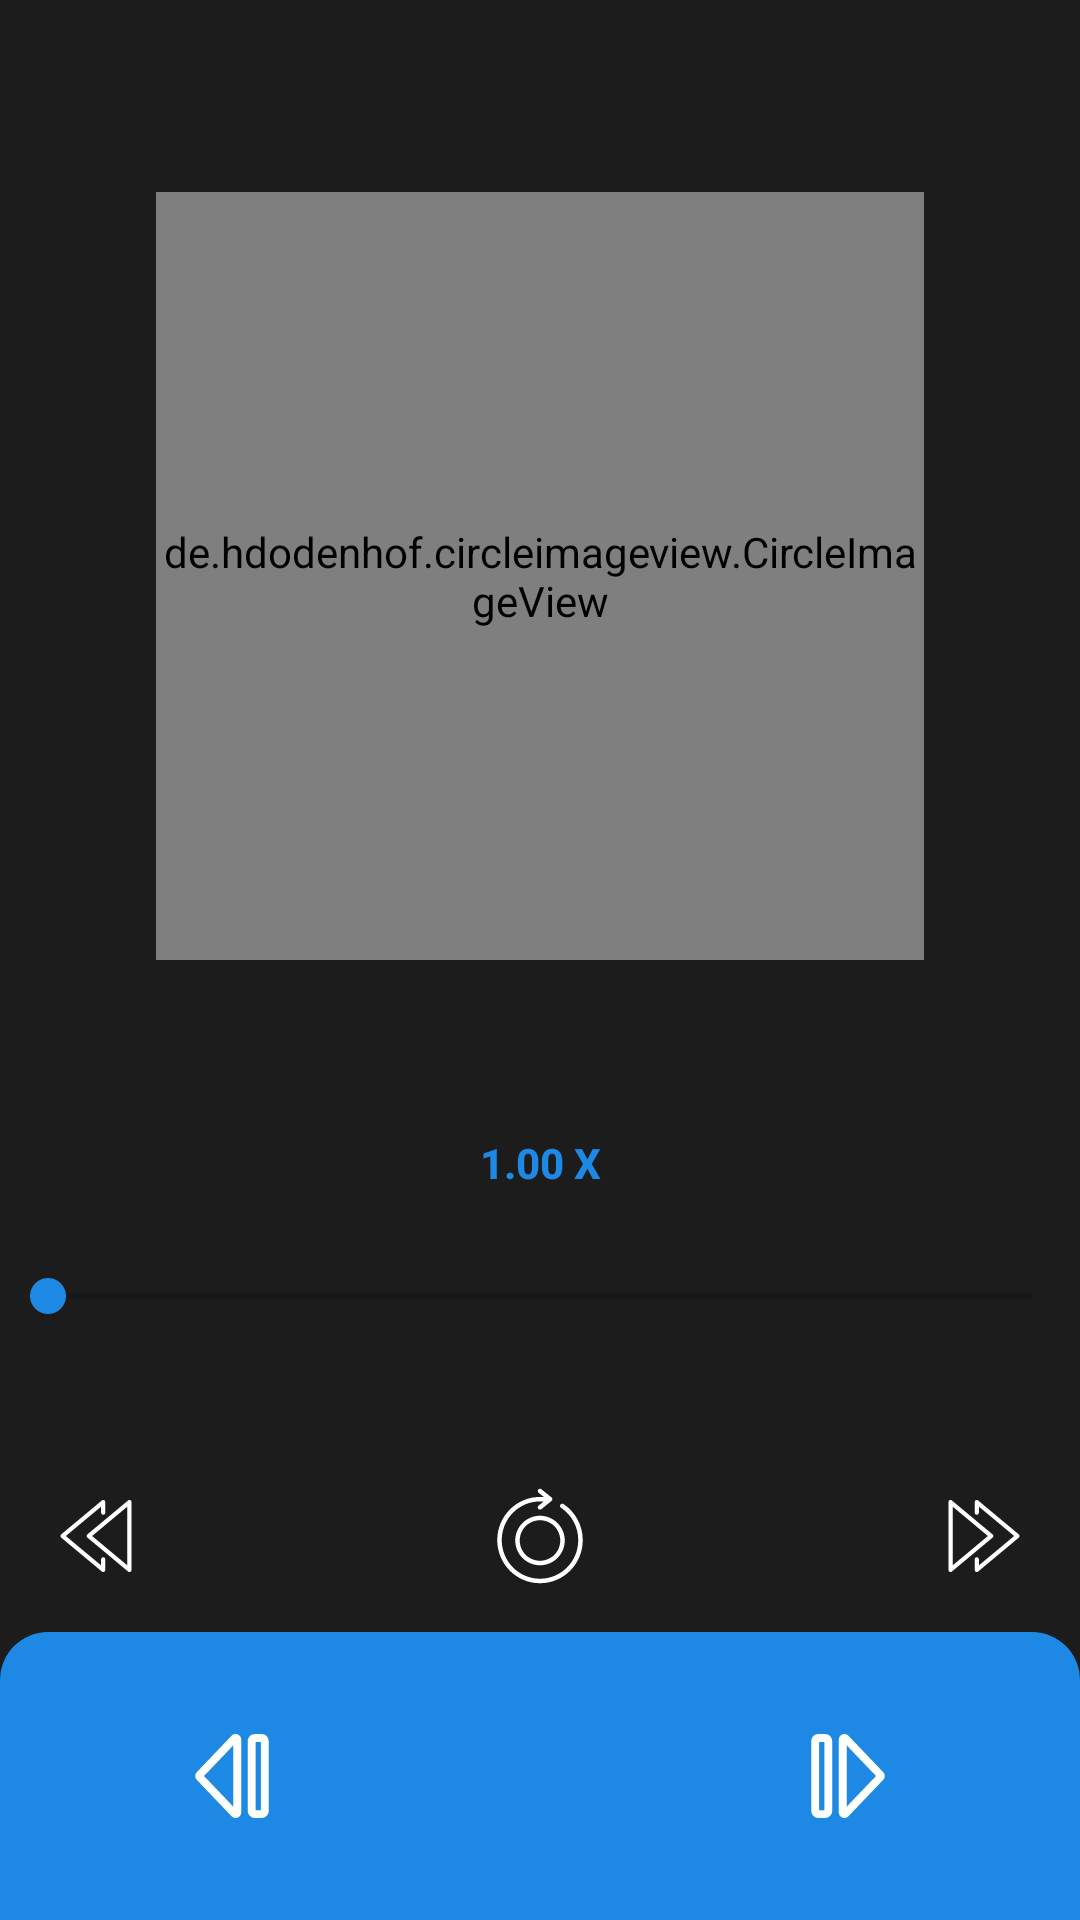

Where to tap for icons on this 1080 × 1920 app screen, as point (x, y):
fast forward: point (984, 1536)
next: point (848, 1776)
previous: point (232, 1776)
repeat stroked: point (540, 1536)
rewind option: point (96, 1536)
